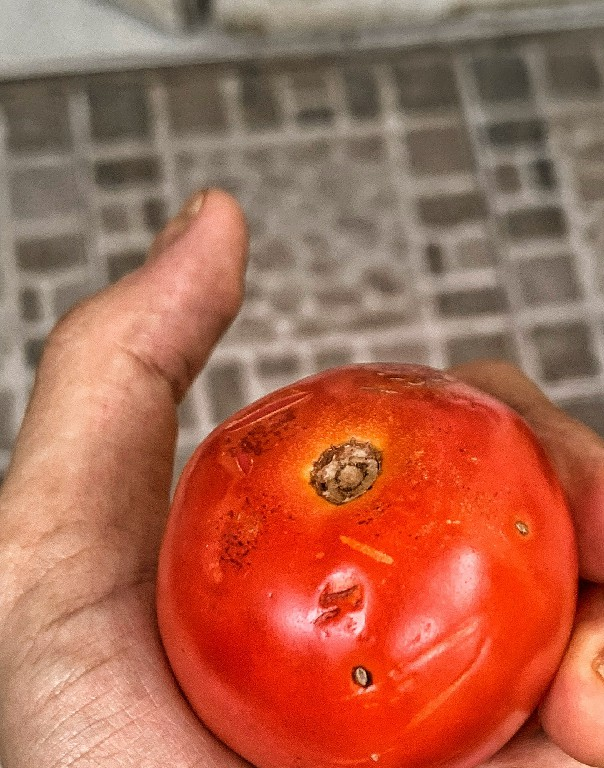NG: (154, 360, 569, 768)
